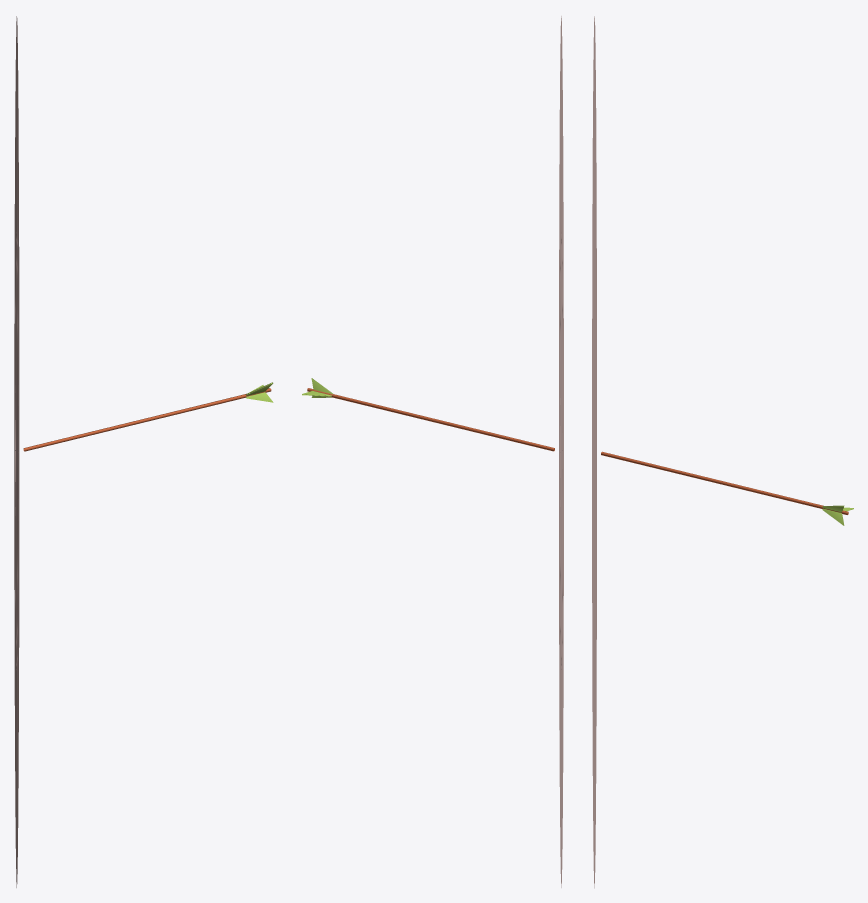
The model's file is flecha.fbx.
3 views of the same model, side by side, from view 1: azimuth 30°, elevation 25°; view 2: azimuth 150°, elevation 25°; view 3: azimuth 330°, elevation 25° (orthographic).
Parts seen in each view (by area): view 1: Cone, Cube; view 2: Cone, Cube; view 3: Cone, Cube.
Part boxes in pixels (x1,y1,x2,y2): Cone: [14, 16, 19, 887]; Cube: [23, 382, 273, 451]; Cone: [559, 16, 563, 887]; Cube: [302, 378, 554, 451]; Cone: [592, 16, 596, 888]; Cube: [601, 451, 853, 525].
Size of the model in its own units: 2.84 by 9.35 by 0.1975.
